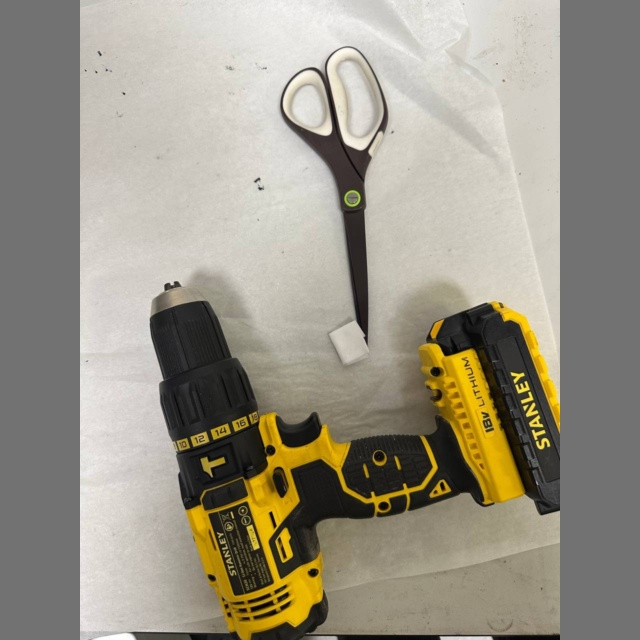drill: (150, 298, 560, 640)
scissor: (282, 47, 388, 337)
